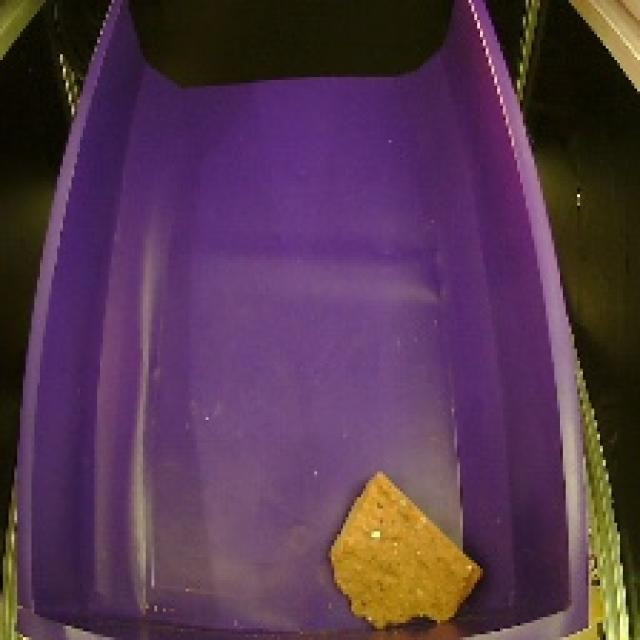brick: (321, 460, 493, 638)
